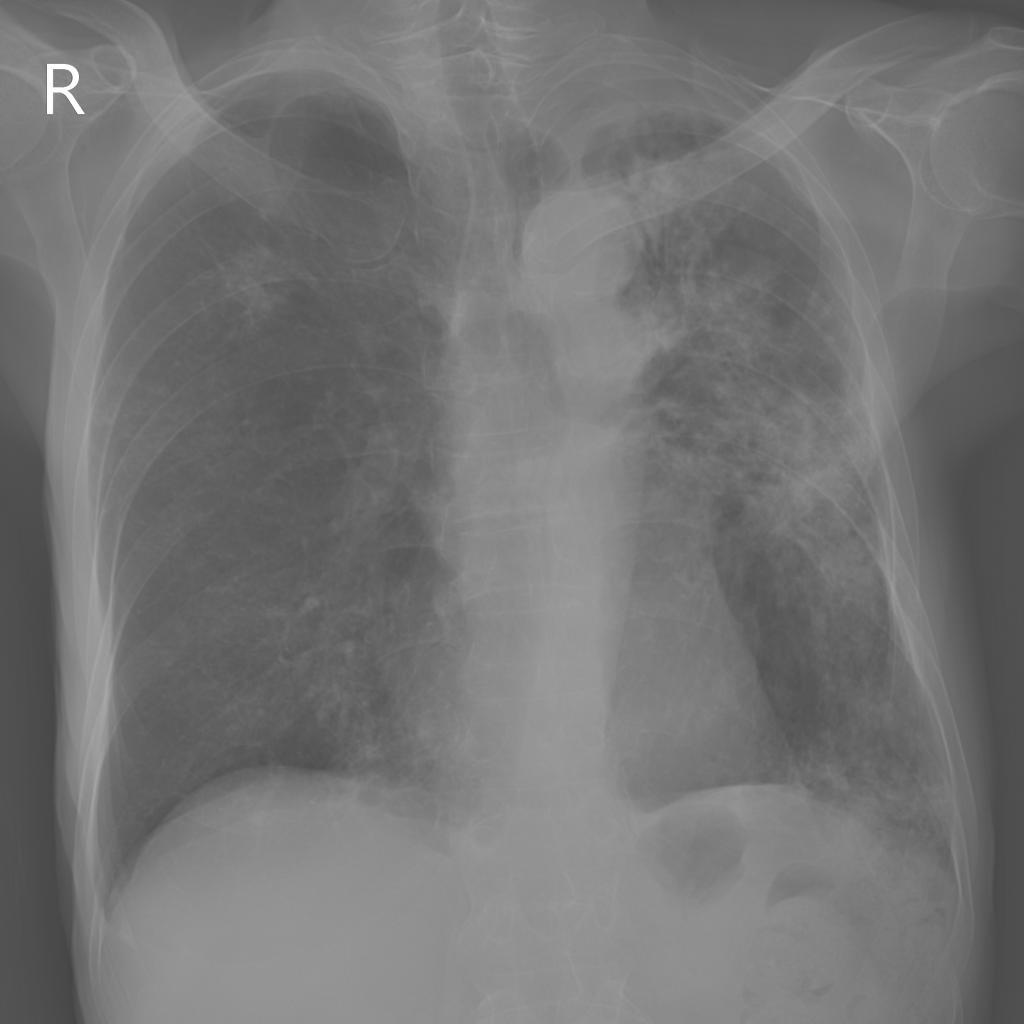Nodule: (575, 293, 661, 393)
